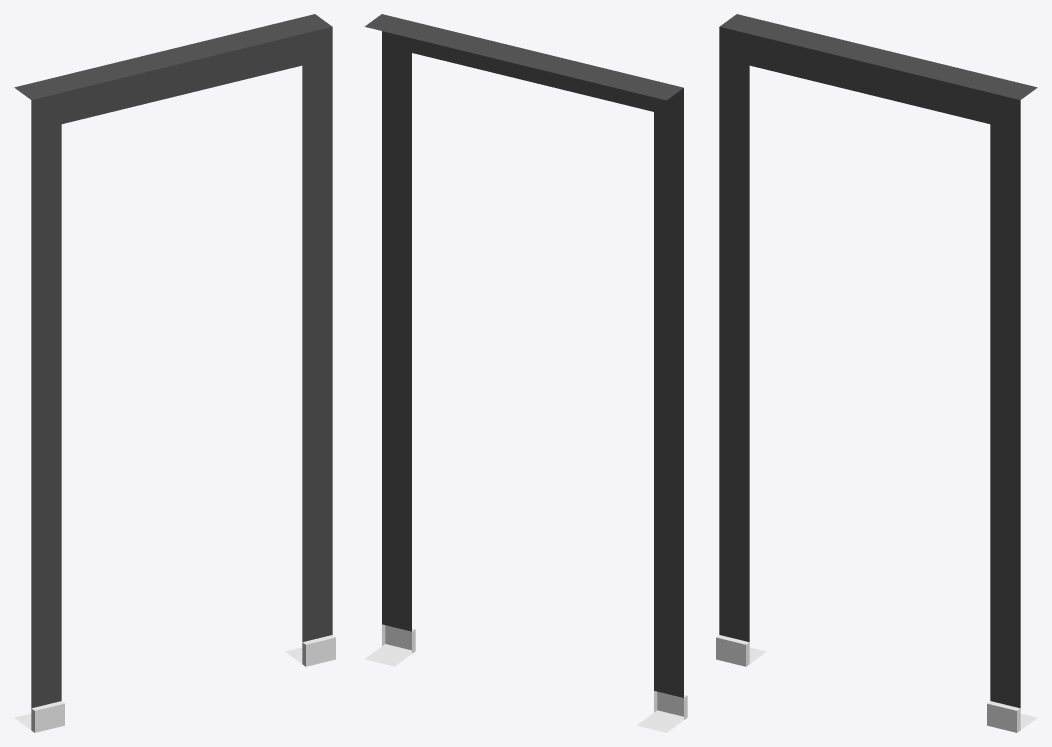
Rendered from Int-V2DoorframeGray.fbx.
The picture shows the model from 3 angles, left to right: view 1: azimuth 30°, elevation 25°; view 2: azimuth 150°, elevation 25°; view 3: azimuth 330°, elevation 25°; orthographic projection.
Visible parts, largest first — view 1: Int-V2DoorframeGray; view 2: Int-V2DoorframeGray; view 3: Int-V2DoorframeGray.
Boxes of the visible parts, x1=… form: Int-V2DoorframeGray: x1=14, y1=14, x2=335, y2=732; Int-V2DoorframeGray: x1=364, y1=14, x2=687, y2=732; Int-V2DoorframeGray: x1=716, y1=14, x2=1037, y2=732.
Size of the model in its own units: 100 by 200 by 12.
